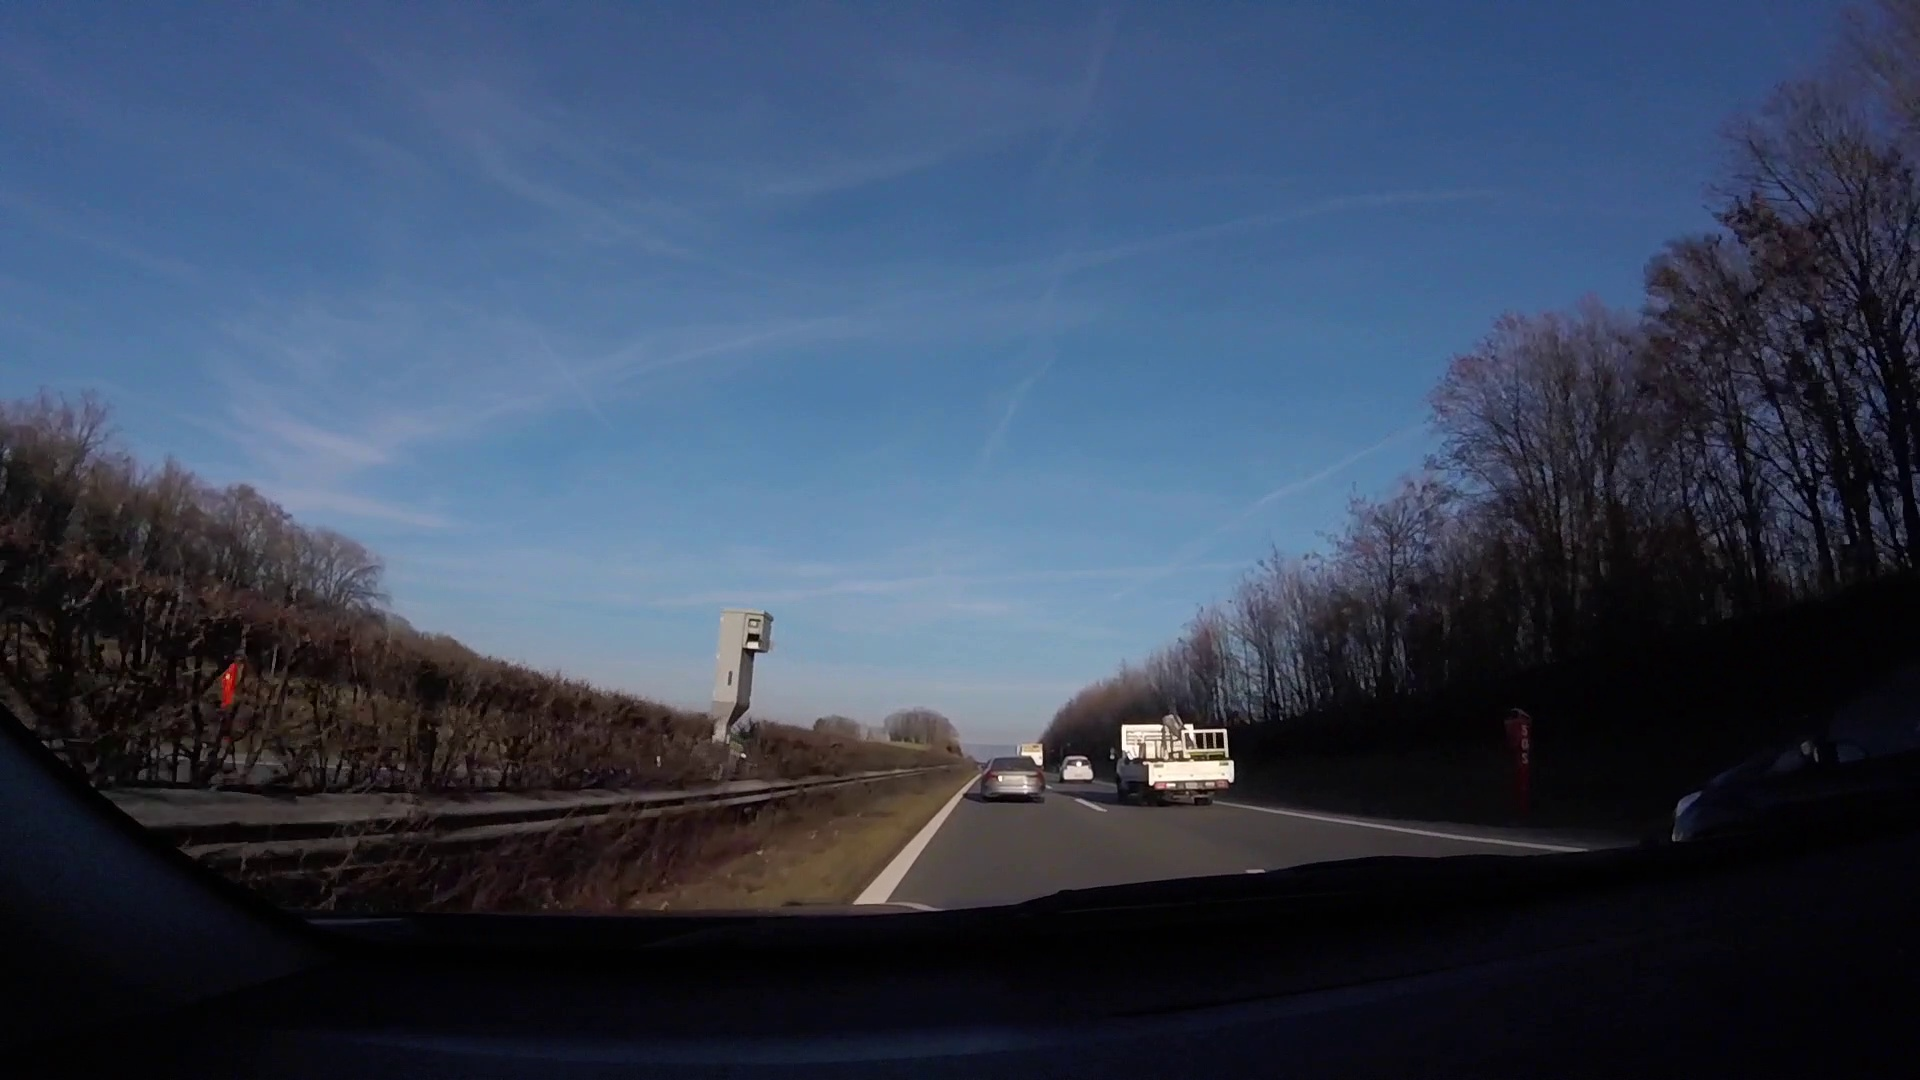radar: (709, 604, 779, 740)
